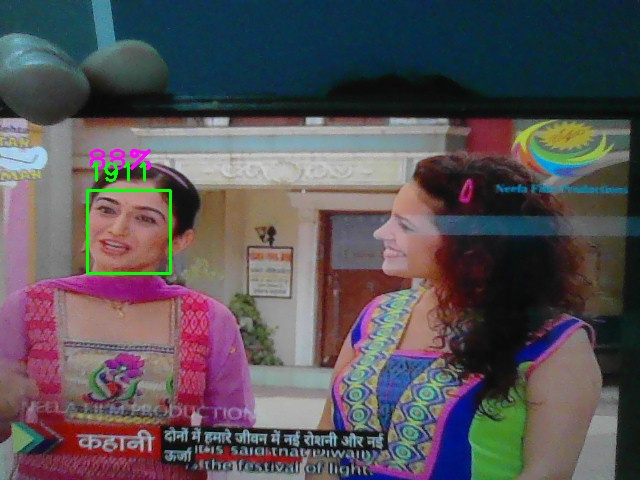fake: (87, 190, 171, 274)
